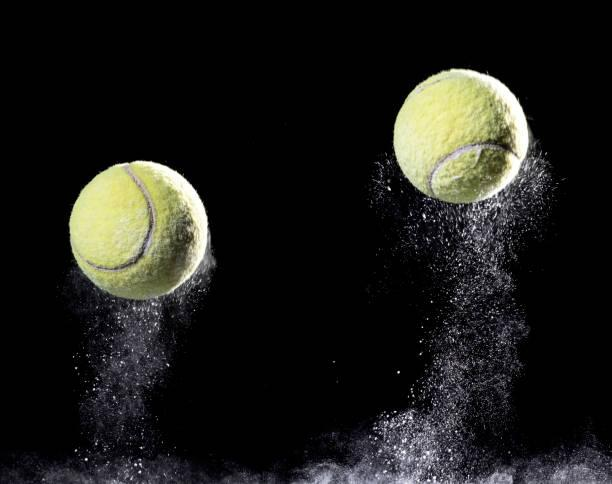ball_tennis: (67, 159, 209, 301), (393, 69, 531, 209)
